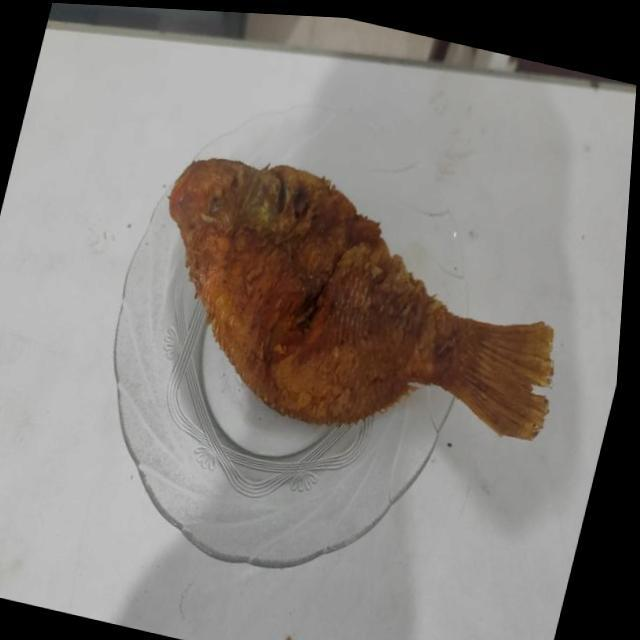ikan_mujair: (169, 159, 552, 438)
